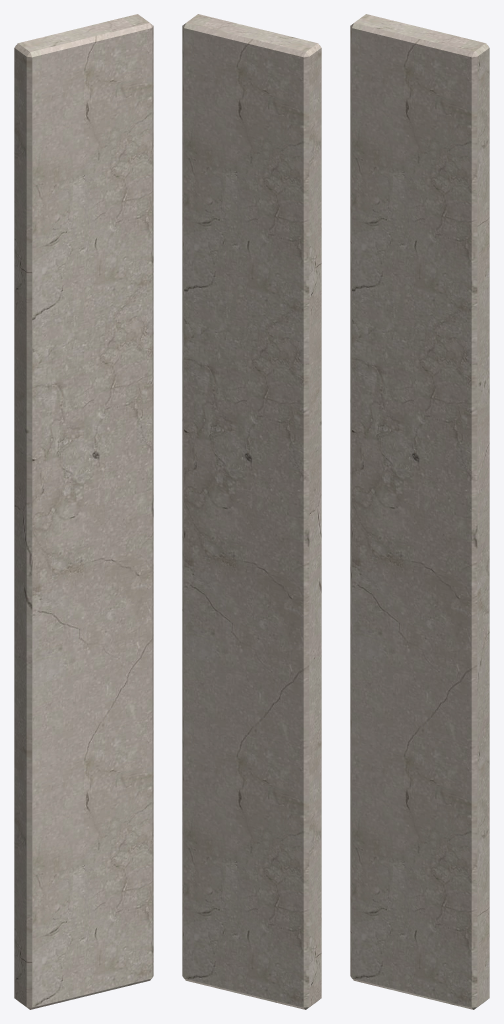
File: pasted__marble_tile_180.fbx
3 views of the same model, side by side, from view 1: azimuth 30°, elevation 25°; view 2: azimuth 150°, elevation 25°; view 3: azimuth 330°, elevation 25° (orthographic).
Parts seen in each view (by area): view 1: pasted__marble_tile_180; view 2: pasted__marble_tile_180; view 3: pasted__marble_tile_180.
Boxes of the visible parts, left/top/right/bottom form: pasted__marble_tile_180: left=14, top=14, right=153, bottom=1009; pasted__marble_tile_180: left=182, top=14, right=321, bottom=1009; pasted__marble_tile_180: left=350, top=14, right=489, bottom=1009.
Size of the model in its own units: 57.76 by 12.79 by 417.
